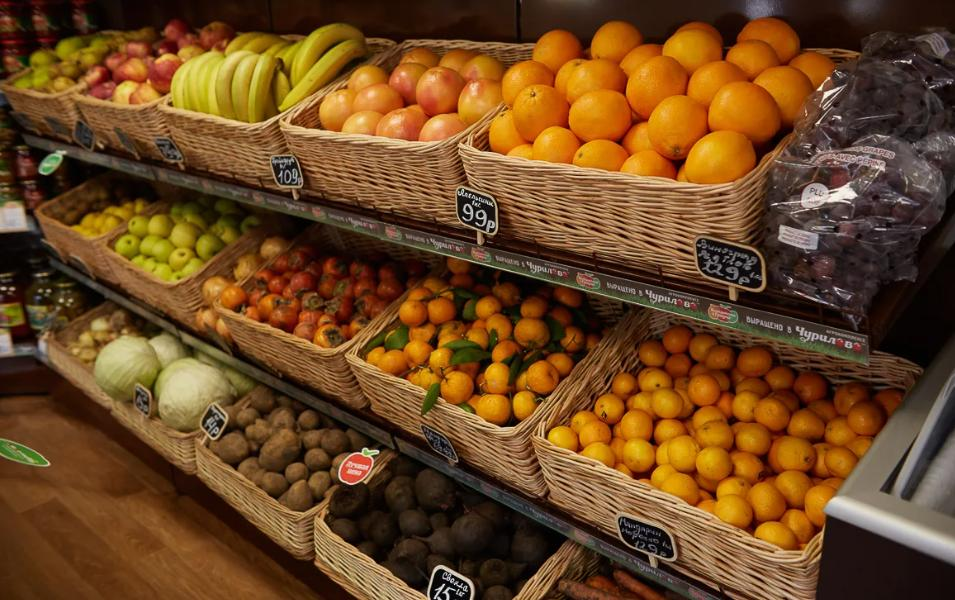banana: (172, 20, 370, 130)
beet: (322, 460, 554, 600)
cabbage: (97, 333, 254, 432)
carrot: (530, 561, 701, 600)
grapes: (767, 30, 955, 297)
green apple: (110, 202, 252, 292)
mandarin: (556, 324, 901, 562), (368, 264, 606, 432)
onion: (53, 306, 137, 362)
orange: (488, 12, 834, 199)
potato: (194, 393, 376, 514)
red apple: (86, 20, 233, 110)
